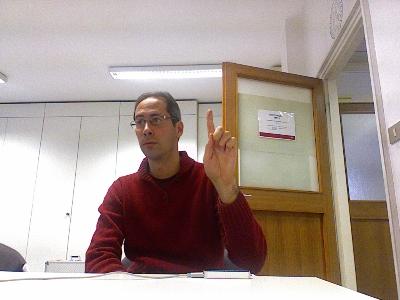食指: (201, 106, 238, 185)
